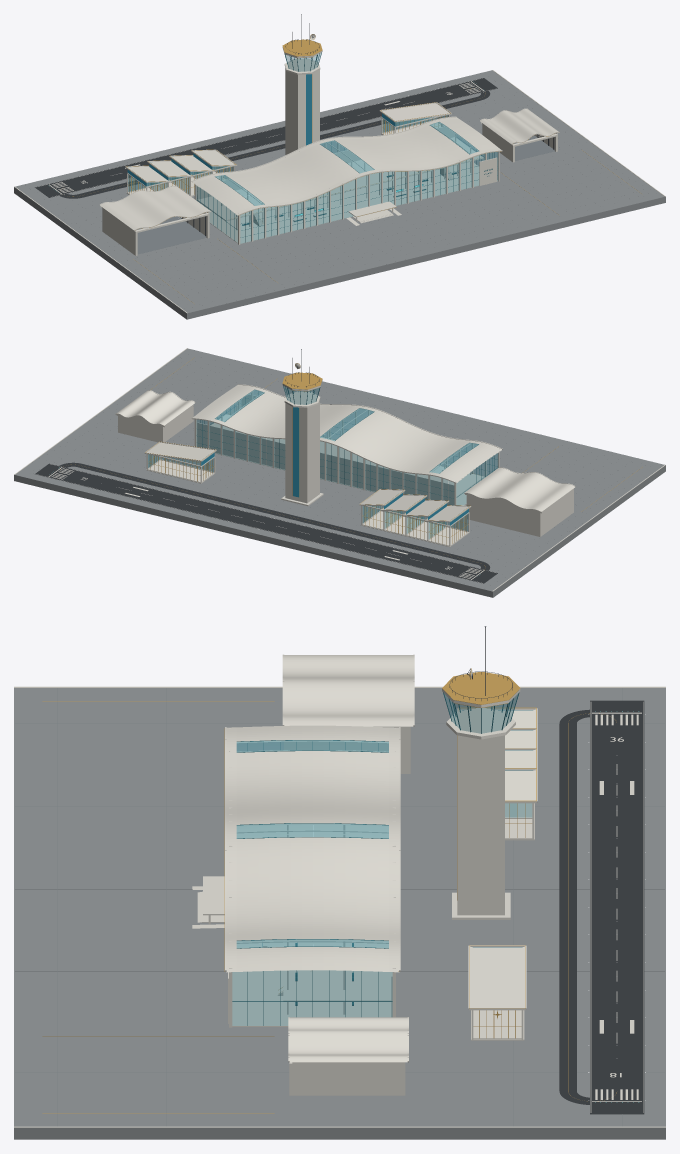
Rendered from Horizon.glb.
3 renders of one model, top to bottom at view 1: azimuth 30°, elevation 25°; view 2: azimuth 150°, elevation 25°; view 3: azimuth 270°, elevation 25°, orthographic. The views are drawn at different scales.
Visible parts, largest first — view 1: GW Paving, GW Ivory, GW Glass, GW Runway Asphalt, GW Joint, GW Gold, GW Glass Highlight, GW Teal, GW Glass Dark; view 2: GW Paving, GW Ivory, GW Runway Asphalt, GW Glass, GW Gold, GW Glass Highlight, GW Glass Dark, GW Teal; view 3: GW Paving, GW Ivory, GW Runway Asphalt, GW Glass, GW Glass Highlight, GW Gold, GW Joint, GW Teal.
Boxes of the visible parts, x1,y1,x2,y2 form: GW Paving: [14, 70, 665, 319]; GW Ivory: [14, 34, 665, 313]; GW Glass: [128, 53, 497, 243]; GW Runway Asphalt: [35, 78, 497, 198]; GW Joint: [29, 80, 628, 294]; GW Gold: [72, 34, 641, 302]; GW Glass Highlight: [131, 115, 478, 205]; GW Teal: [197, 52, 497, 242]; GW Glass Dark: [127, 74, 395, 186]; GW Paving: [14, 348, 665, 597]; GW Ivory: [14, 348, 665, 591]; GW Runway Asphalt: [35, 462, 497, 583]; GW Glass: [148, 386, 497, 538]; GW Gold: [60, 357, 642, 569]; GW Glass Highlight: [149, 389, 478, 537]; GW Glass Dark: [201, 407, 468, 525]; GW Teal: [200, 385, 497, 505]; GW Paving: [14, 688, 665, 1139]; GW Ivory: [14, 654, 665, 1127]; GW Runway Asphalt: [559, 700, 644, 1114]; GW Glass: [232, 694, 531, 1025]; GW Glass Highlight: [236, 740, 517, 948]; GW Gold: [42, 668, 616, 1113]; GW Joint: [15, 688, 664, 1126]; GW Teal: [232, 692, 519, 1025].
Bounding box in the file's own units: 960 × 297 × 600.
